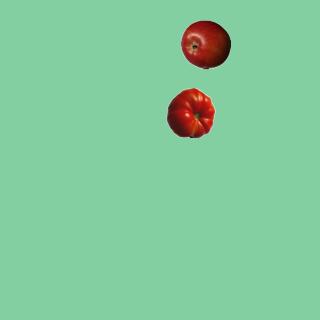Apple Braeburn: (180, 19, 230, 69)
Tomato 3: (165, 87, 215, 137)
